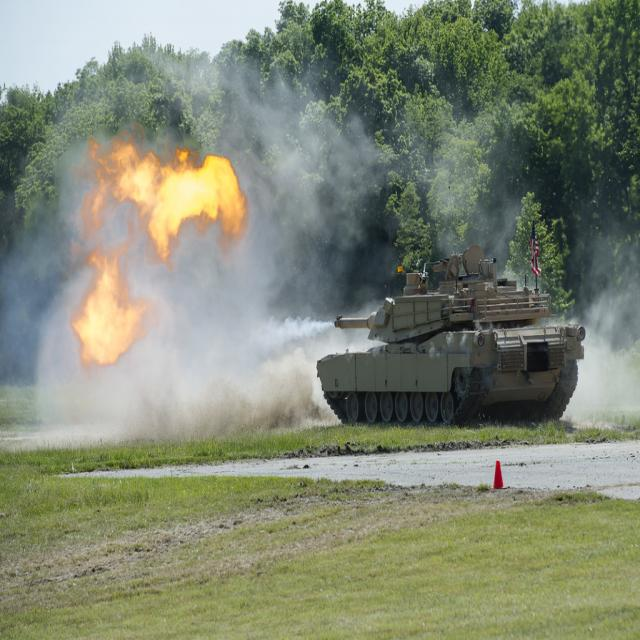tank: (315, 242, 587, 424)
